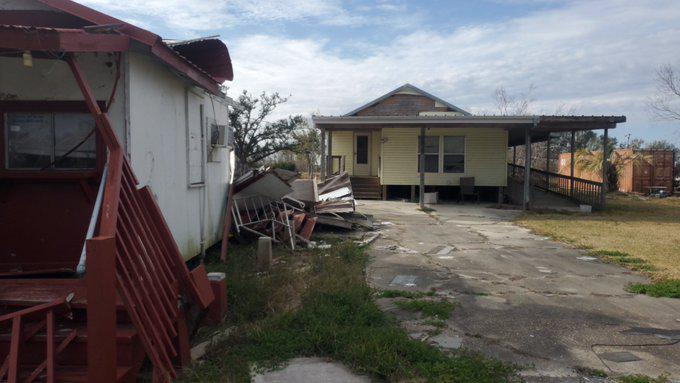affected: (308, 79, 624, 214)
major: (0, 0, 306, 383)
